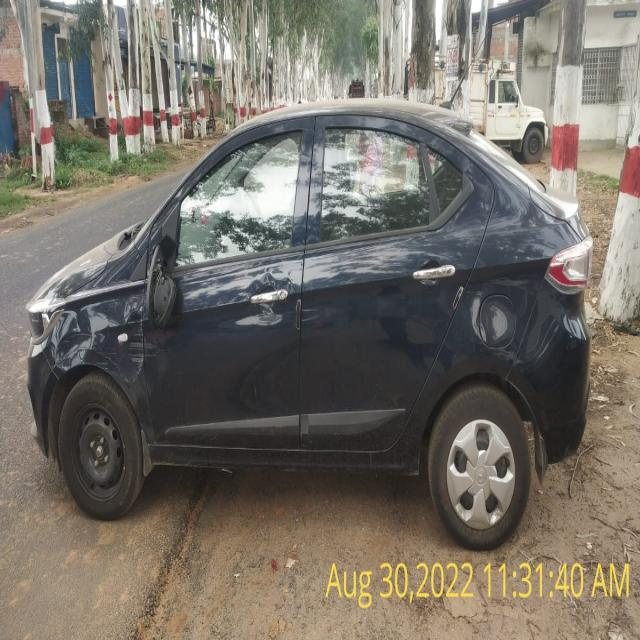damage: (145, 234, 182, 324), (48, 312, 101, 372), (255, 267, 288, 336), (125, 316, 142, 382), (486, 299, 511, 343), (467, 287, 485, 347), (142, 330, 160, 376)
